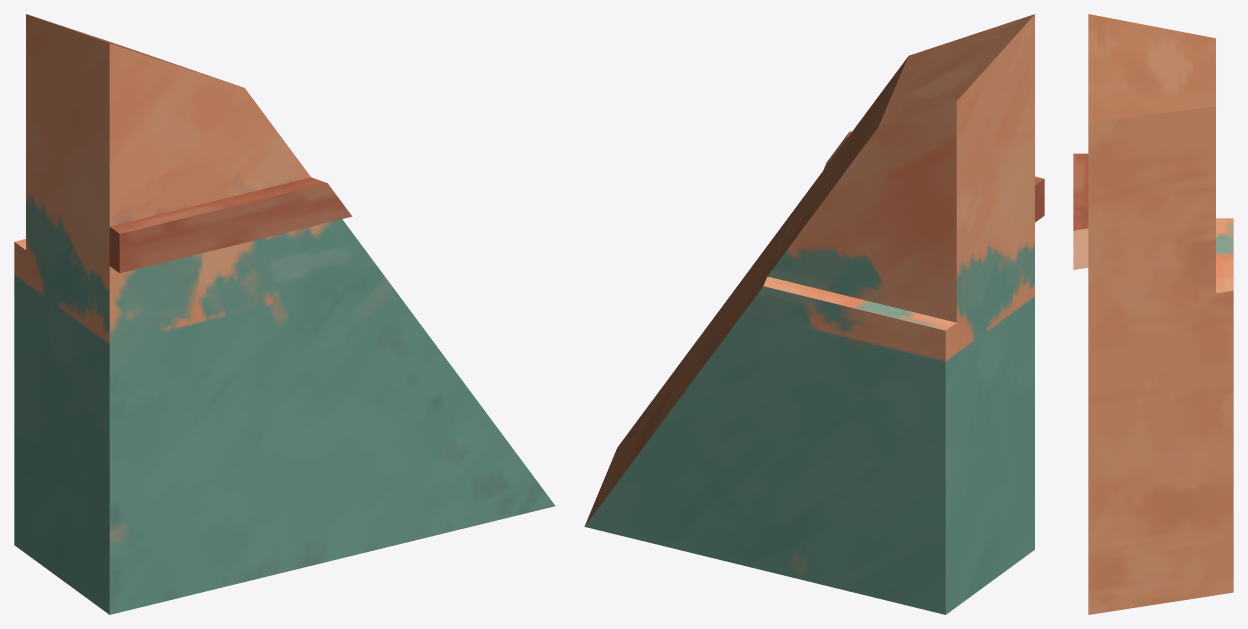
Rendered from wall2_plain_s00.fbx.
3 renders of one model, left to right at view 1: azimuth 30°, elevation 25°; view 2: azimuth 150°, elevation 25°; view 3: azimuth 270°, elevation 25°, orthographic. The views are drawn at different scales.
Visible parts, largest first — view 1: wall2_plain_s00; view 2: wall2_plain_s00; view 3: wall2_plain_s00.
Part boxes in pixels (x1,y1,x2,y2): wall2_plain_s00: (14, 14, 555, 614); wall2_plain_s00: (584, 14, 1044, 614); wall2_plain_s00: (1073, 14, 1233, 614).
Size of the model in its own units: 3.08 by 3.77 by 1.26.
